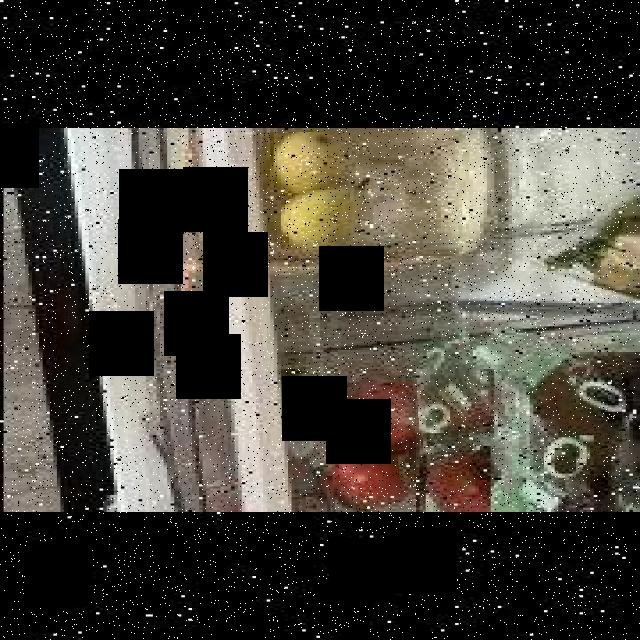pear: (281, 178, 373, 249), (270, 132, 348, 201)
tomato: (336, 382, 421, 454), (412, 369, 490, 433), (327, 457, 416, 512), (423, 446, 487, 512)
